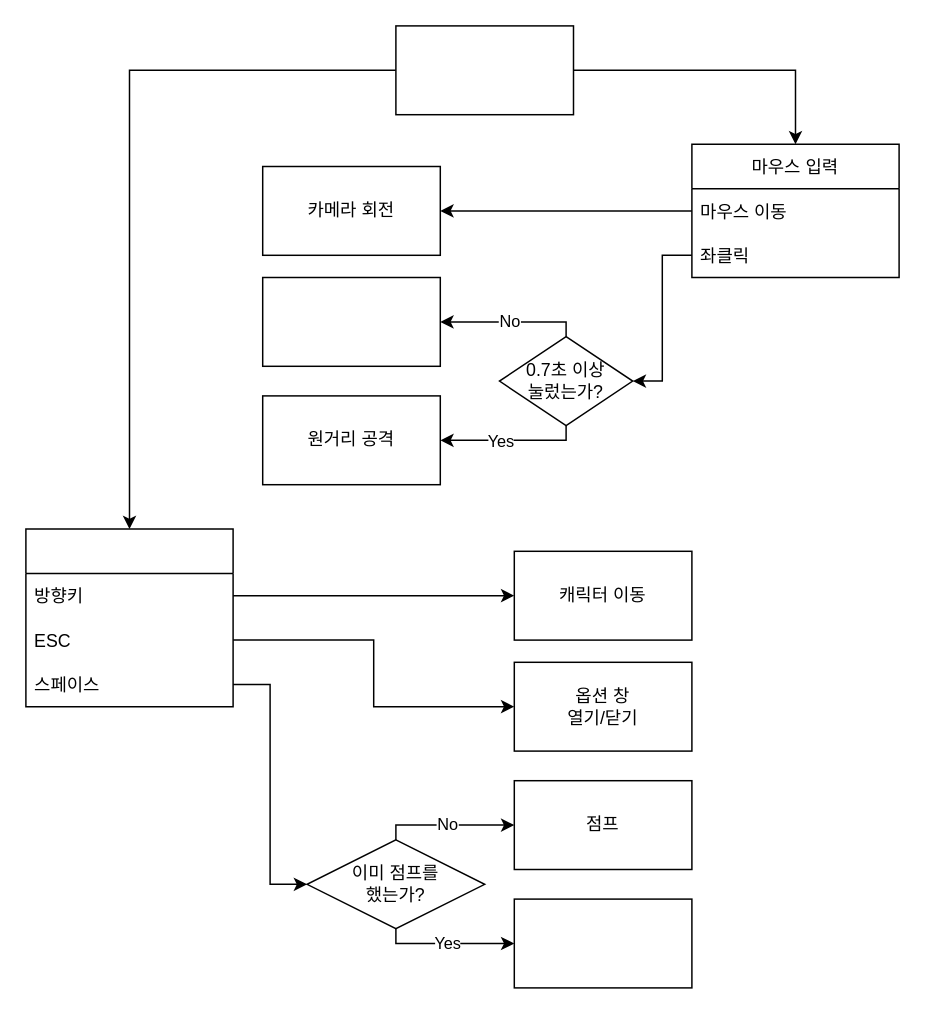
The diagram is 925 pixels wide and 1014 high, and some of its shapes have lost their labels. The shapes that lost their labels are listed below. From the top down, each one's box as (x1, y1, x2, y2) in pixels, then its label:
(394, 24, 574, 115): 입력 이벤트 감지
(261, 276, 440, 366): 근접 공격
(24, 528, 233, 707): 키보드 입력
(513, 898, 692, 988): 글라이딩
